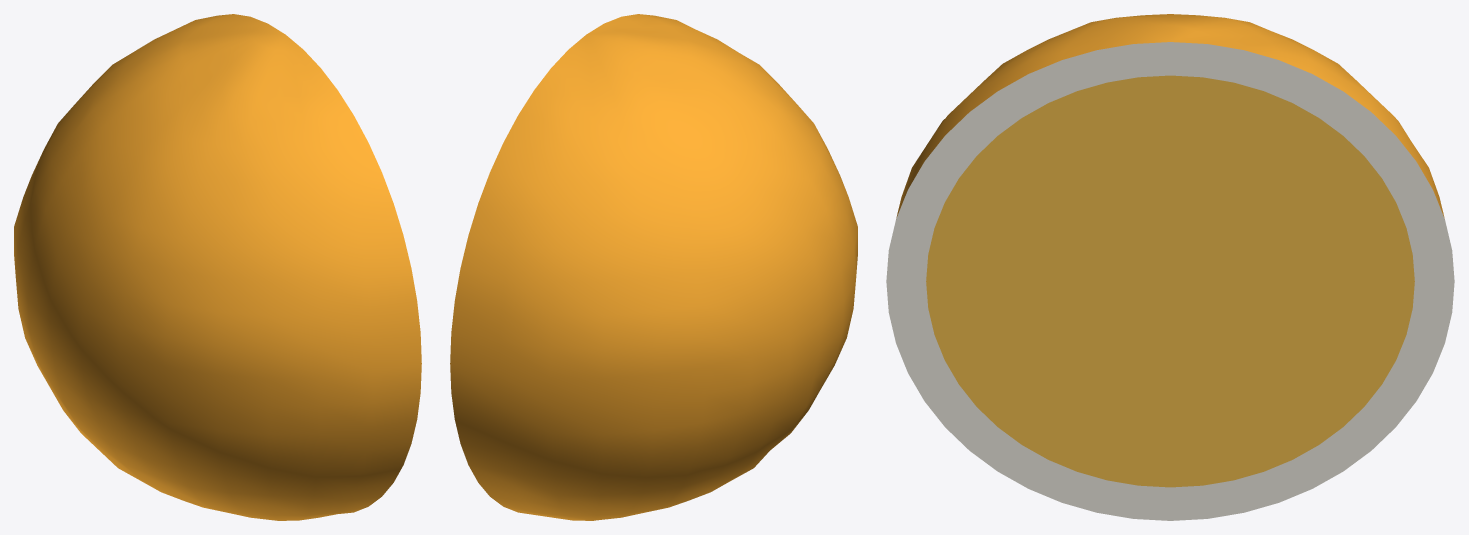
File: Orange_Half_A.fbx
The picture shows the model from 3 angles, left to right: view 1: azimuth 30°, elevation 25°; view 2: azimuth 150°, elevation 25°; view 3: azimuth 270°, elevation 25°; orthographic projection. The views are drawn at different scales.
Visible parts, largest first — view 1: Orange_Half_A; view 2: Orange_Half_A; view 3: Orange_Half_A.
Part boxes in pixels (x1,y1,x2,y2): Orange_Half_A: [14, 14, 421, 520]; Orange_Half_A: [450, 14, 857, 520]; Orange_Half_A: [886, 14, 1454, 520].
Bounding box in the file's own units: 0.45 × 0.8382 × 0.9.
